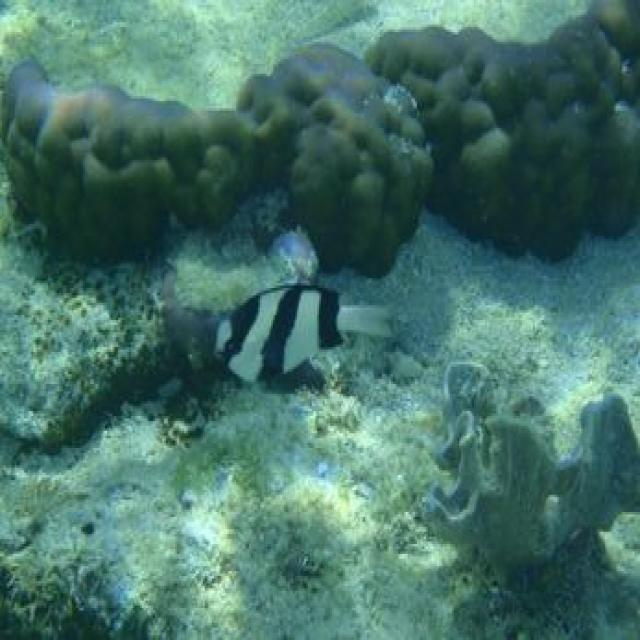ThreeStripedDamselfish: (216, 286, 393, 389)
